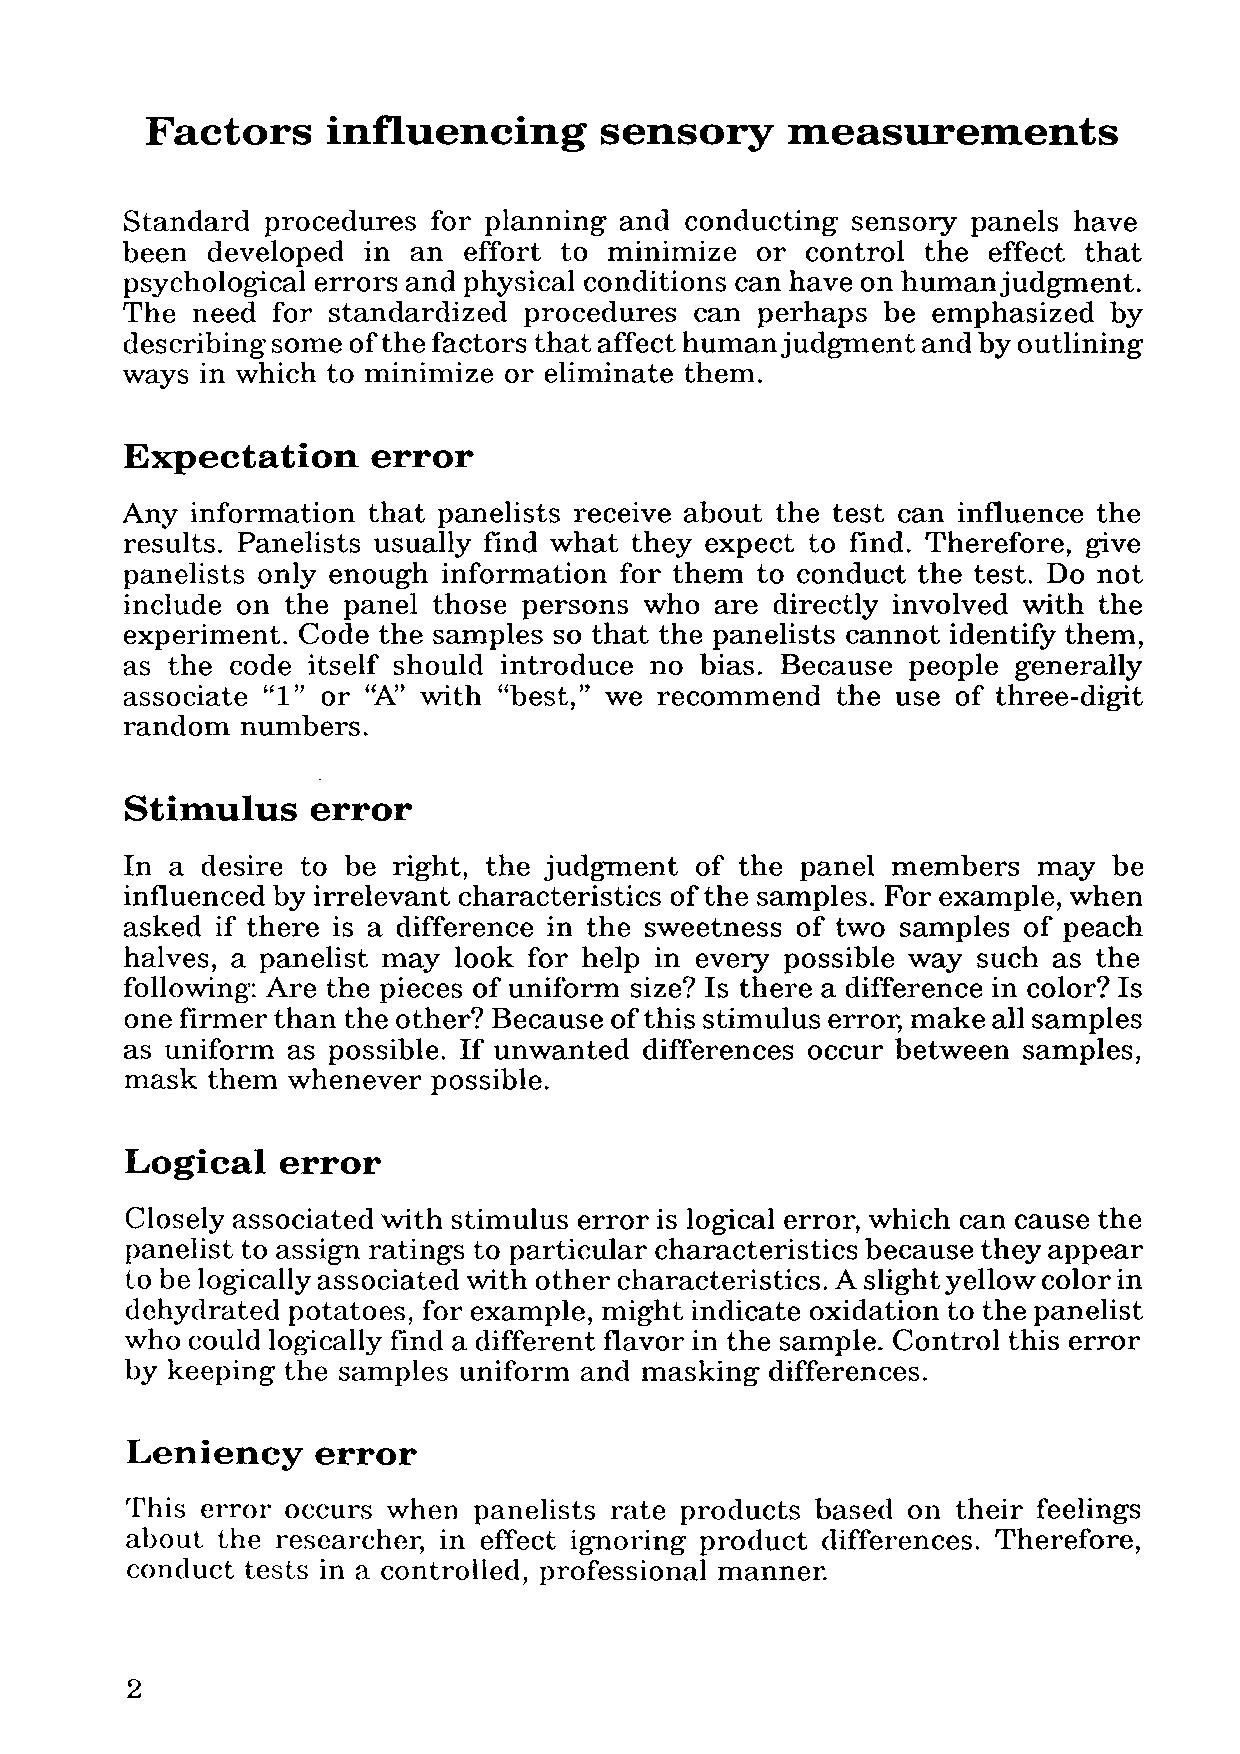chapter: (140, 111, 1121, 158), (118, 433, 474, 478), (121, 1436, 417, 1472), (118, 790, 413, 827), (118, 1143, 382, 1184)
content: (118, 848, 1146, 1098), (118, 499, 1143, 739), (119, 203, 1145, 395), (118, 1201, 1143, 1388), (119, 1492, 1142, 1588)
content_pagenumber: (123, 1673, 144, 1702)
